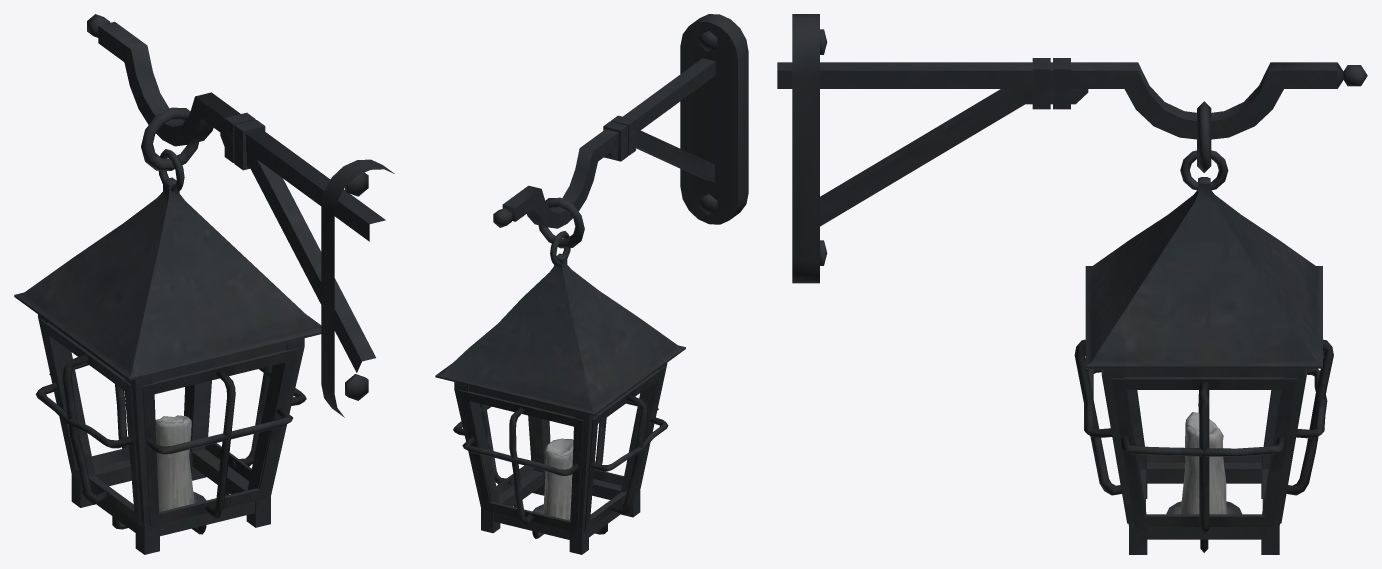
File: AEG004_860-transformed.glb
3 renders of one model, left to right at view 1: azimuth 30°, elevation 25°; view 2: azimuth 150°, elevation 25°; view 3: azimuth 270°, elevation 25°, orthographic. The views are drawn at different scales.
Visible parts, largest first — view 1: default; view 2: default; view 3: default.
Boxes of the visible parts, box(x1,y1,x2,y2) form: default: box(14, 14, 394, 554); default: box(435, 14, 748, 554); default: box(777, 14, 1367, 554).
Size of the model in its own units: 0.2407 by 0.5225 by 0.5484.
1 material, 1 textured.
